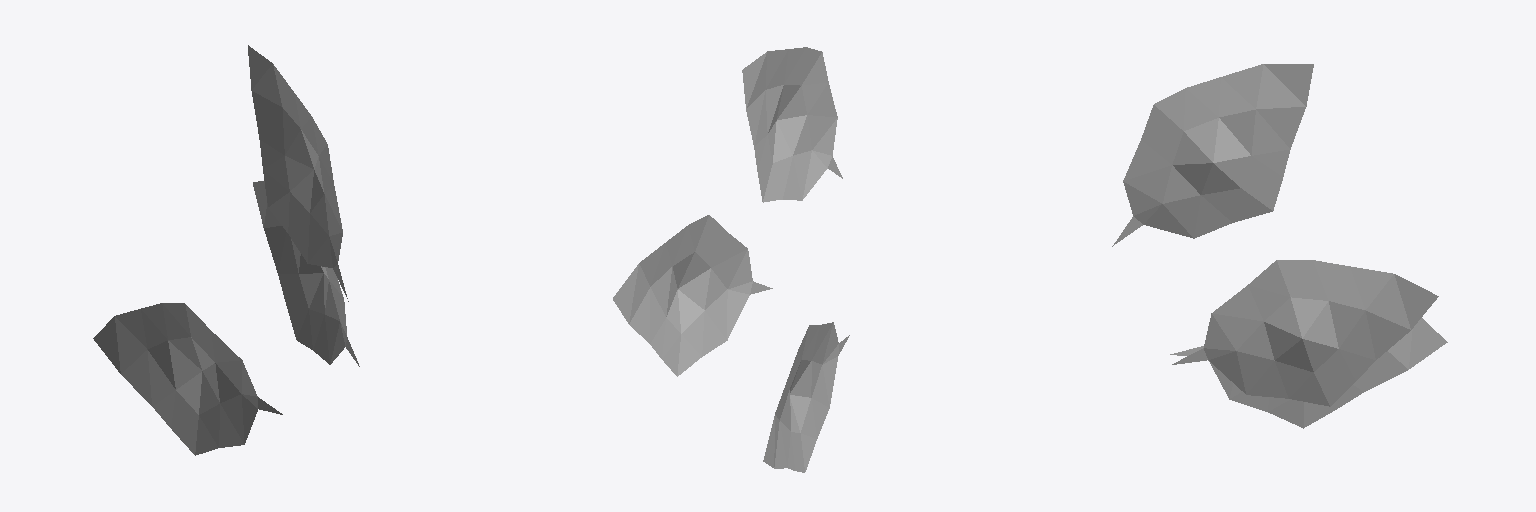
Rendered from leaf_3.obj.
3 views of the same model, side by side, from view 1: azimuth 30°, elevation 25°; view 2: azimuth 150°, elevation 25°; view 3: azimuth 270°, elevation 25° (orthographic).
Parts seen in each view (by area): view 1: 평면.002, 평면, 평면.001; view 2: 평면.001, 평면, 평면.002; view 3: 평면, 평면.001, 평면.002.
Boxes of the visible parts, <box> form: 평면.002: <box>93,303,282,455</box>; 평면: <box>248,45,348,301</box>; 평면.001: <box>253,181,359,366</box>; 평면.001: <box>613,215,772,376</box>; 평면: <box>742,47,842,202</box>; 평면.002: <box>763,322,849,472</box>; 평면: <box>1112,64,1313,246</box>; 평면.001: <box>1172,260,1438,406</box>; 평면.002: <box>1170,318,1447,428</box>.
Size of the model in its own units: 0.2278 by 0.5414 by 0.4191.